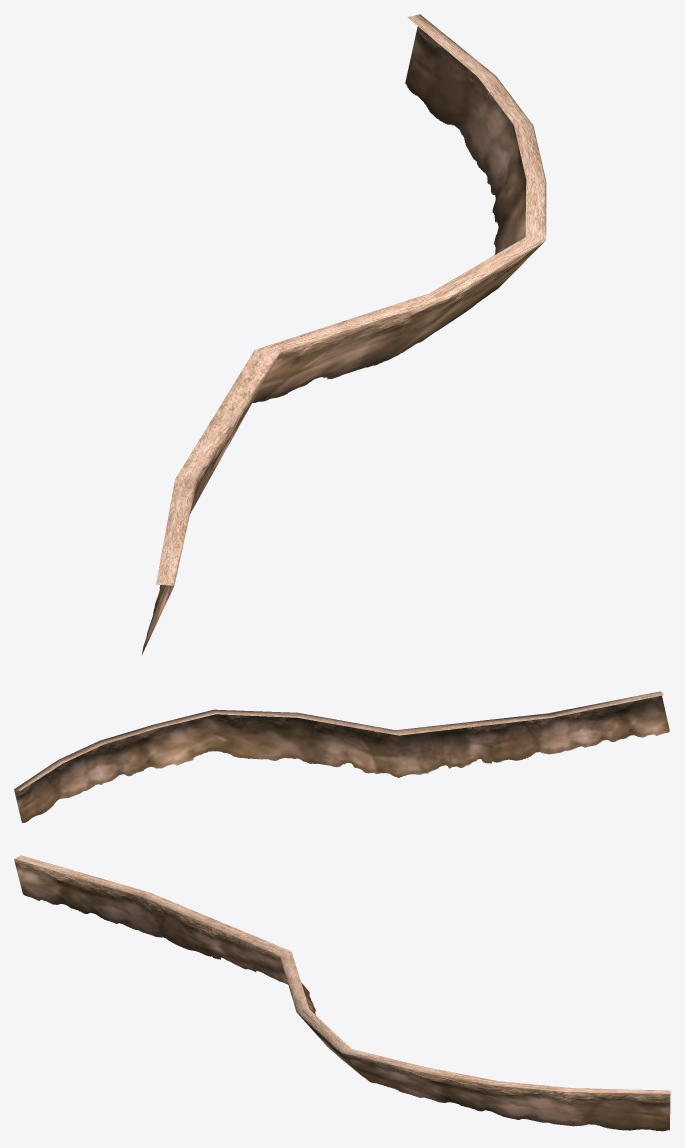
The model's file is OVERHILL_A_01_CAVE_LEDGE.fbx.
3 renders of one model, top to bottom at view 1: azimuth 30°, elevation 25°; view 2: azimuth 150°, elevation 25°; view 3: azimuth 270°, elevation 25°, orthographic. The views are drawn at different scales.
Parts seen in each view (by area): view 1: OVERHILL_A_01_CAVE_LEDGE; view 2: OVERHILL_A_01_CAVE_LEDGE; view 3: OVERHILL_A_01_CAVE_LEDGE.
Part boxes in pixels (box(x1,y1,x2,y2)): OVERHILL_A_01_CAVE_LEDGE: box(141, 14, 546, 654); OVERHILL_A_01_CAVE_LEDGE: box(14, 691, 669, 822); OVERHILL_A_01_CAVE_LEDGE: box(14, 855, 670, 1131).
Bounding box in the file's own units: 41006 × 3769 × 46685.
Materials: 1 (1 with a texture image).
